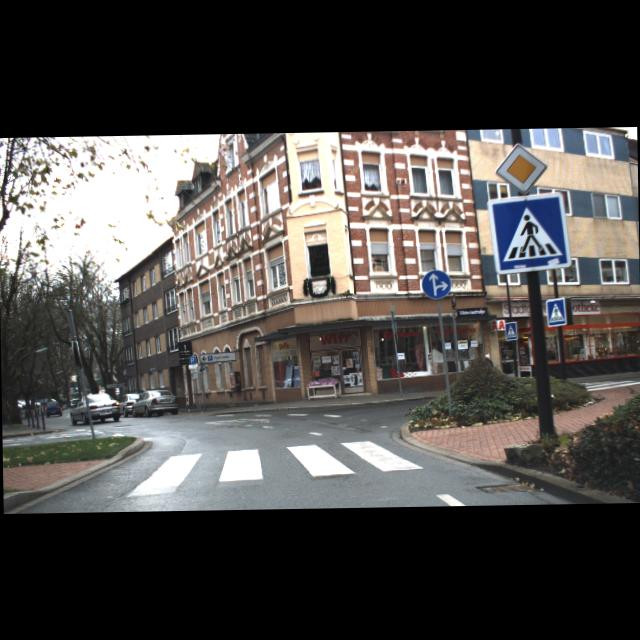mandatory: (420, 268, 451, 300)
other: (493, 142, 548, 195)
